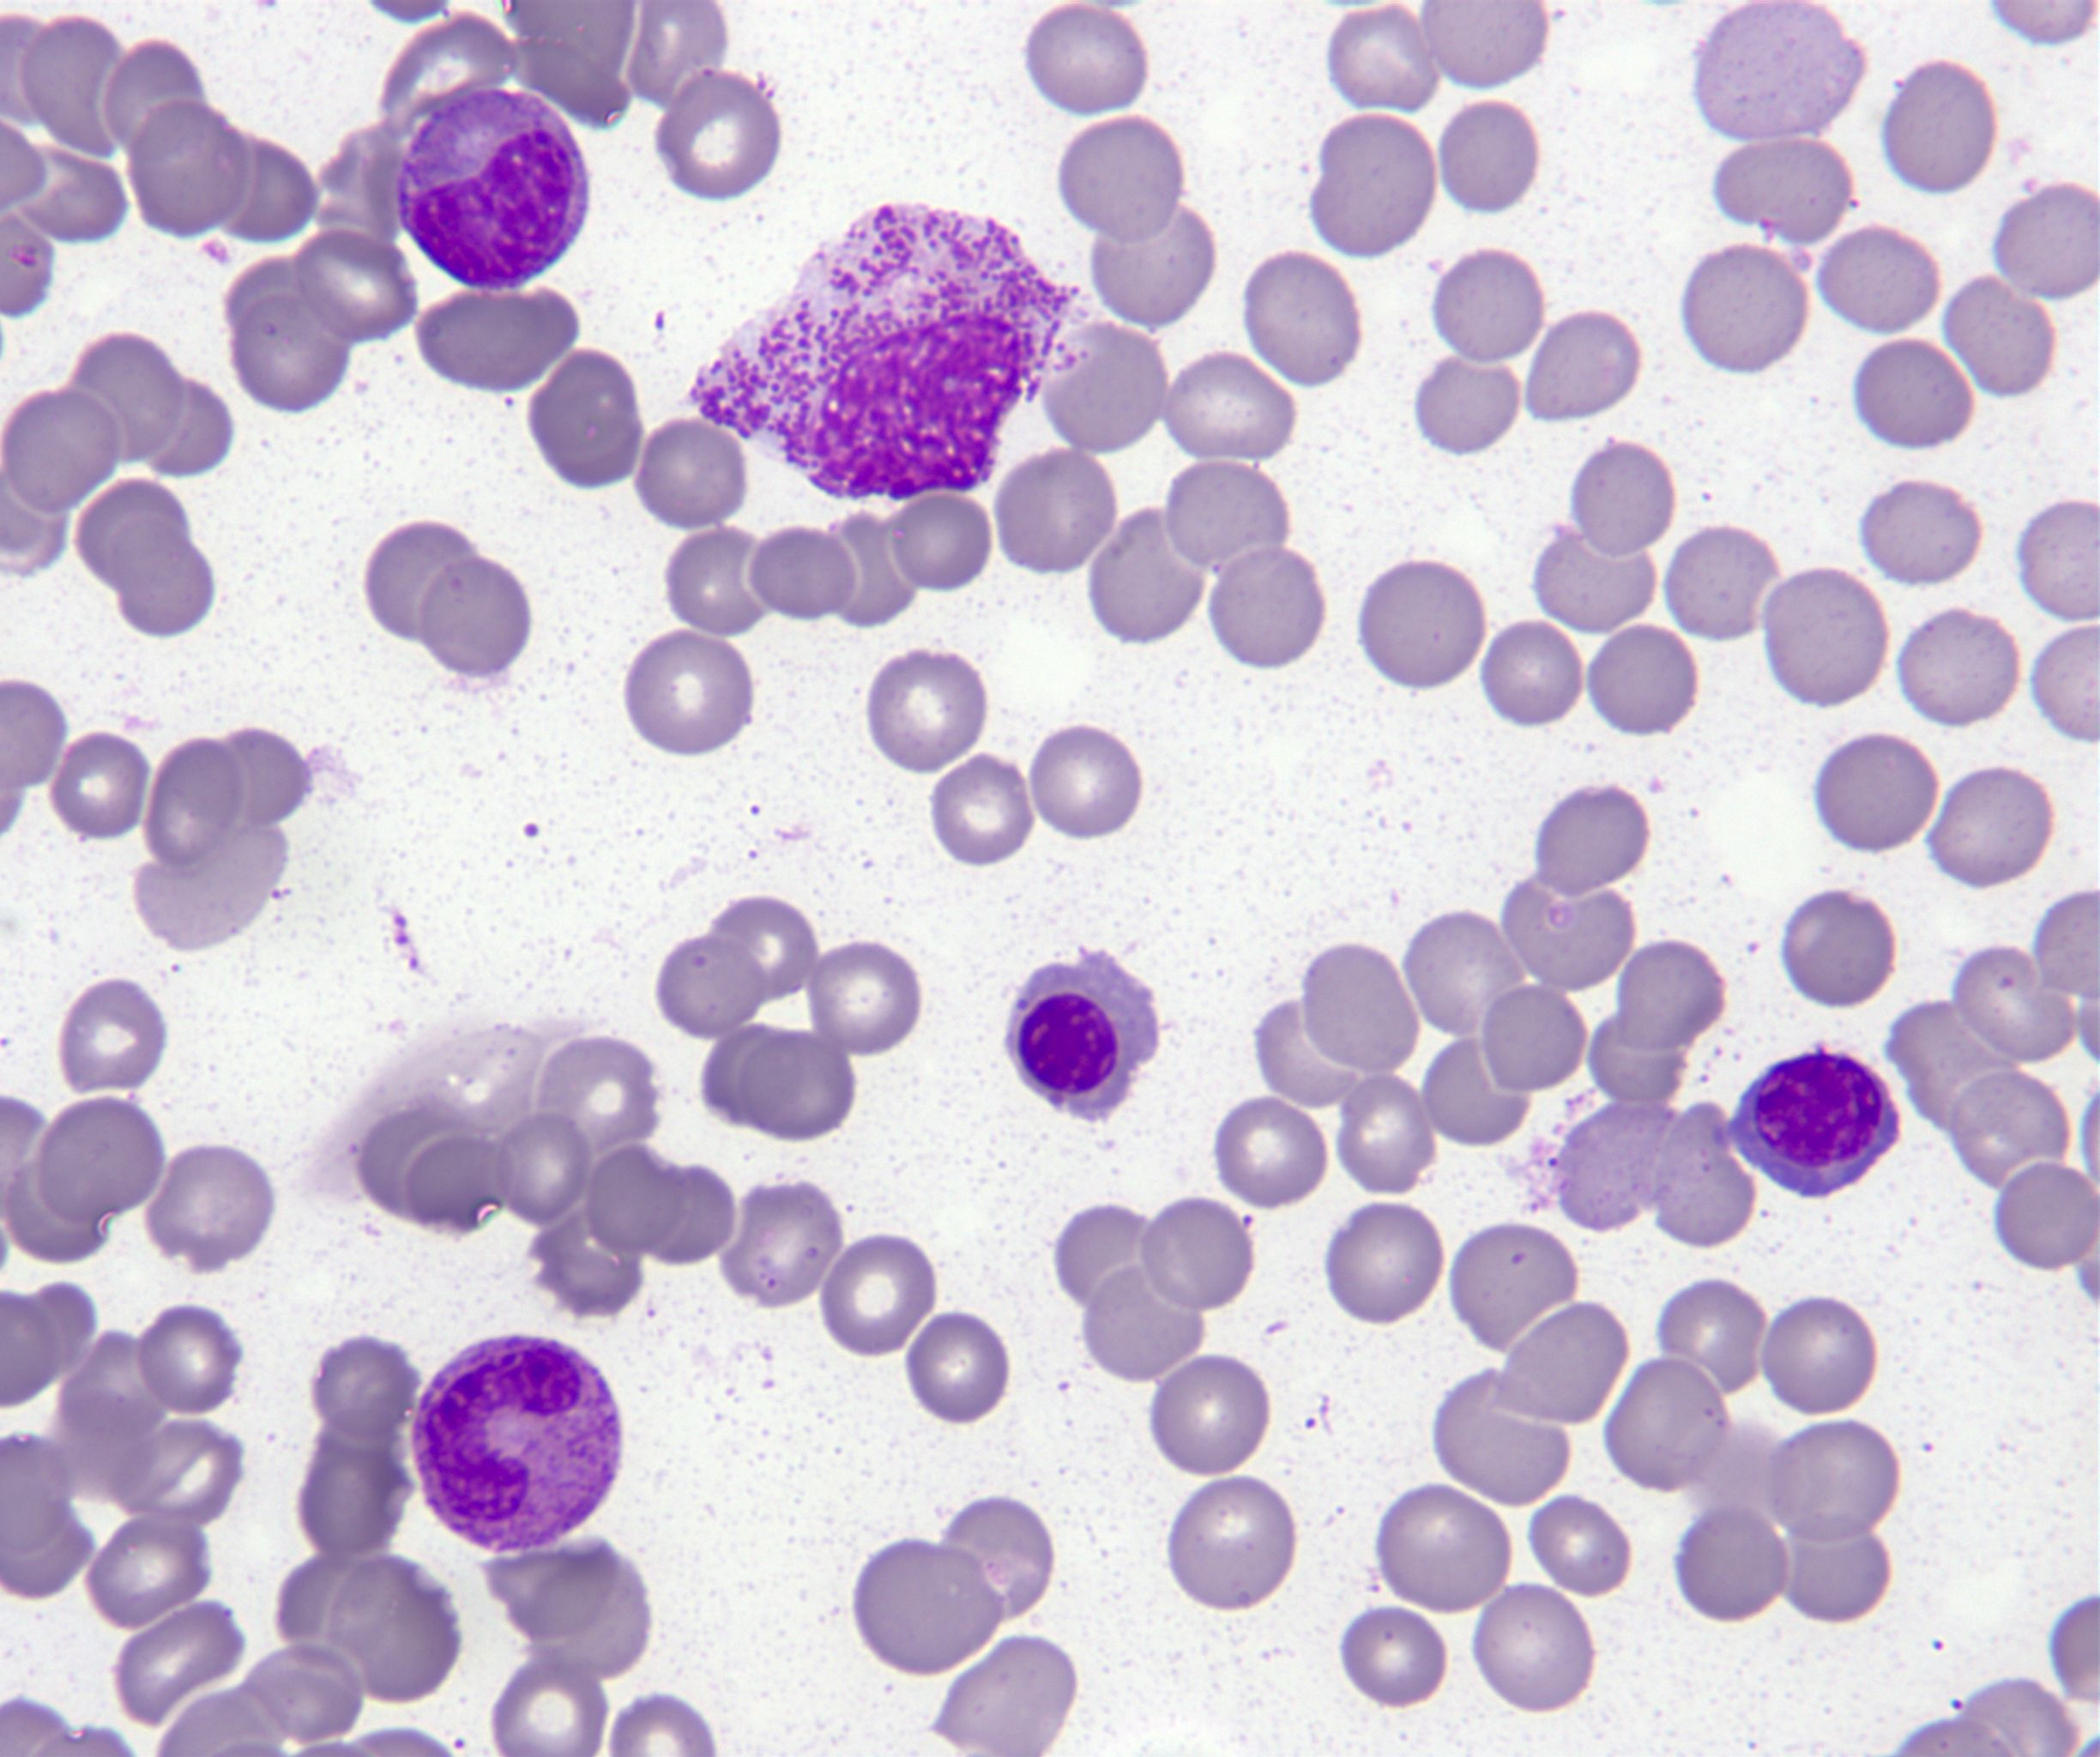24: (1711, 1054, 1896, 1199), (1006, 949, 1156, 1120)
4: (396, 91, 590, 290)
5: (413, 1338, 623, 1551)
x: (689, 204, 1083, 496)
